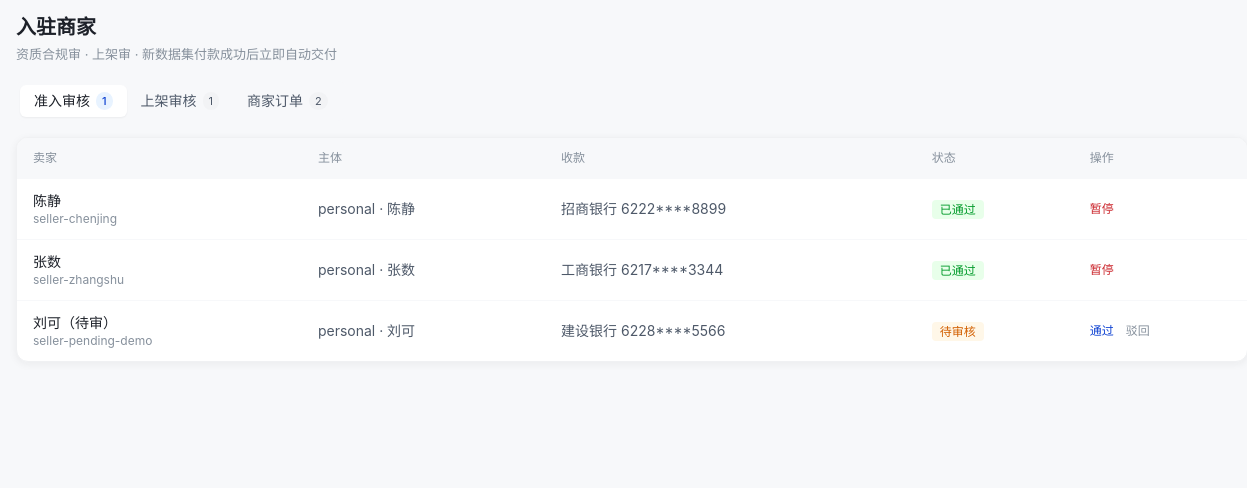
Test: SellerMarketAdmin listing content › shows separate Chinese listing and review labels for pending_review
Click the button "上架审核 1": (180, 100) [127,84,233,116]
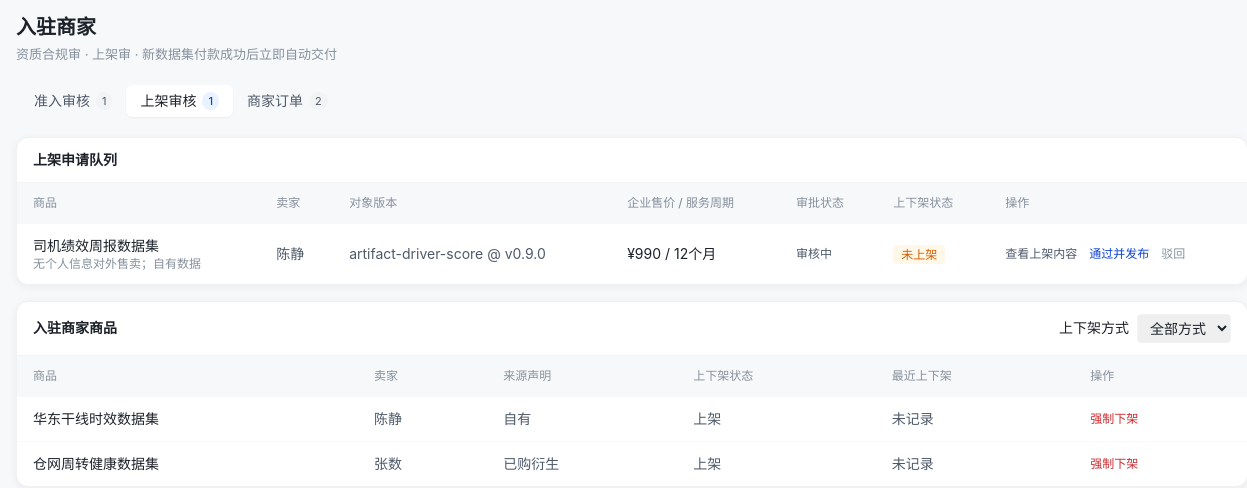
Expected: the column heading with test id "approval-state-heading" reads "审批状态", [796,194,844,210]
Expected: the column heading with test id "listing-state-heading" reads "上下架状态", [893,194,953,210]
Expected: the cell with test id "listing-state-listing-pending-driver" reads "未上架", [901,246,937,262]
